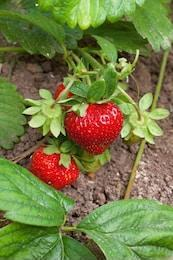Fresa: (58, 91, 126, 160), (26, 139, 82, 192)
